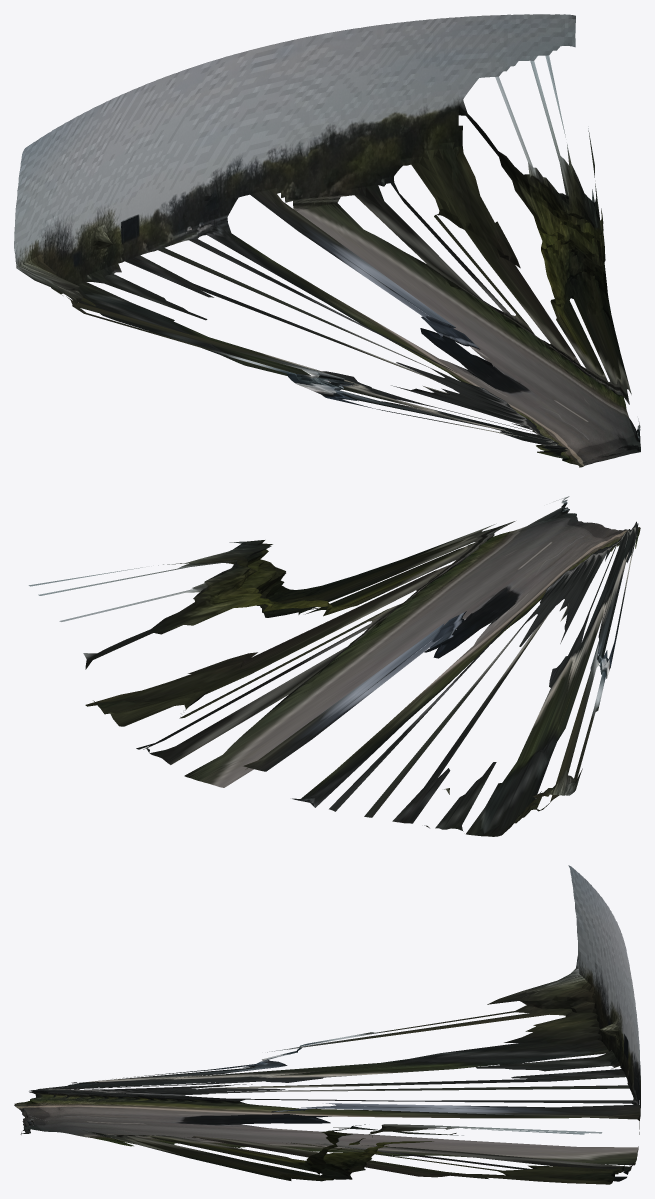
The picture shows the model from 3 angles, top to bottom: view 1: azimuth 30°, elevation 25°; view 2: azimuth 150°, elevation 25°; view 3: azimuth 270°, elevation 25°; orthographic projection. The views are drawn at different scales.
Visible parts, largest first — view 1: defaultobject; view 2: defaultobject; view 3: defaultobject.
Part boxes in pixels (box(x1,y1,x2,y2)): defaultobject: box(14, 14, 640, 467); defaultobject: box(28, 496, 640, 836); defaultobject: box(14, 865, 640, 1184).
Size of the model in its own units: 41 by 12.97 by 44.78.
Materials: 1 (1 with a texture image).
